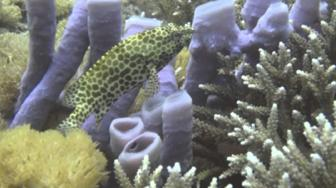Serranidae -Groupers-: (56, 19, 193, 137)
